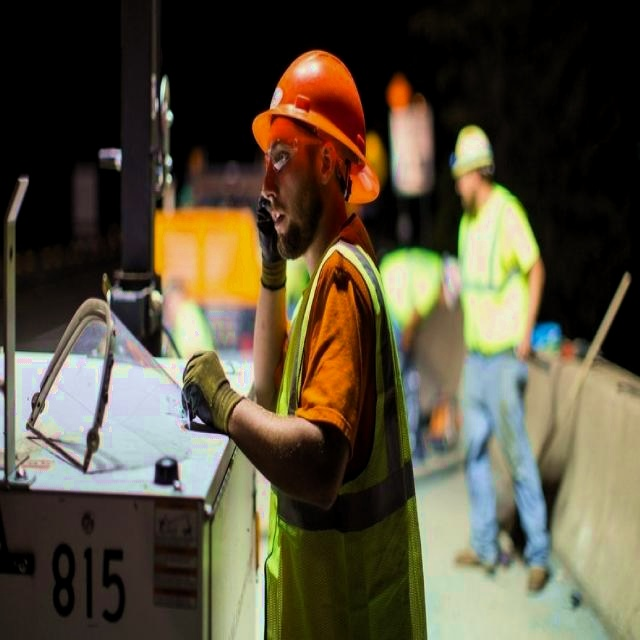Con_Casco: (255, 43, 365, 242)
Con_Chaleco: (259, 245, 427, 630)
